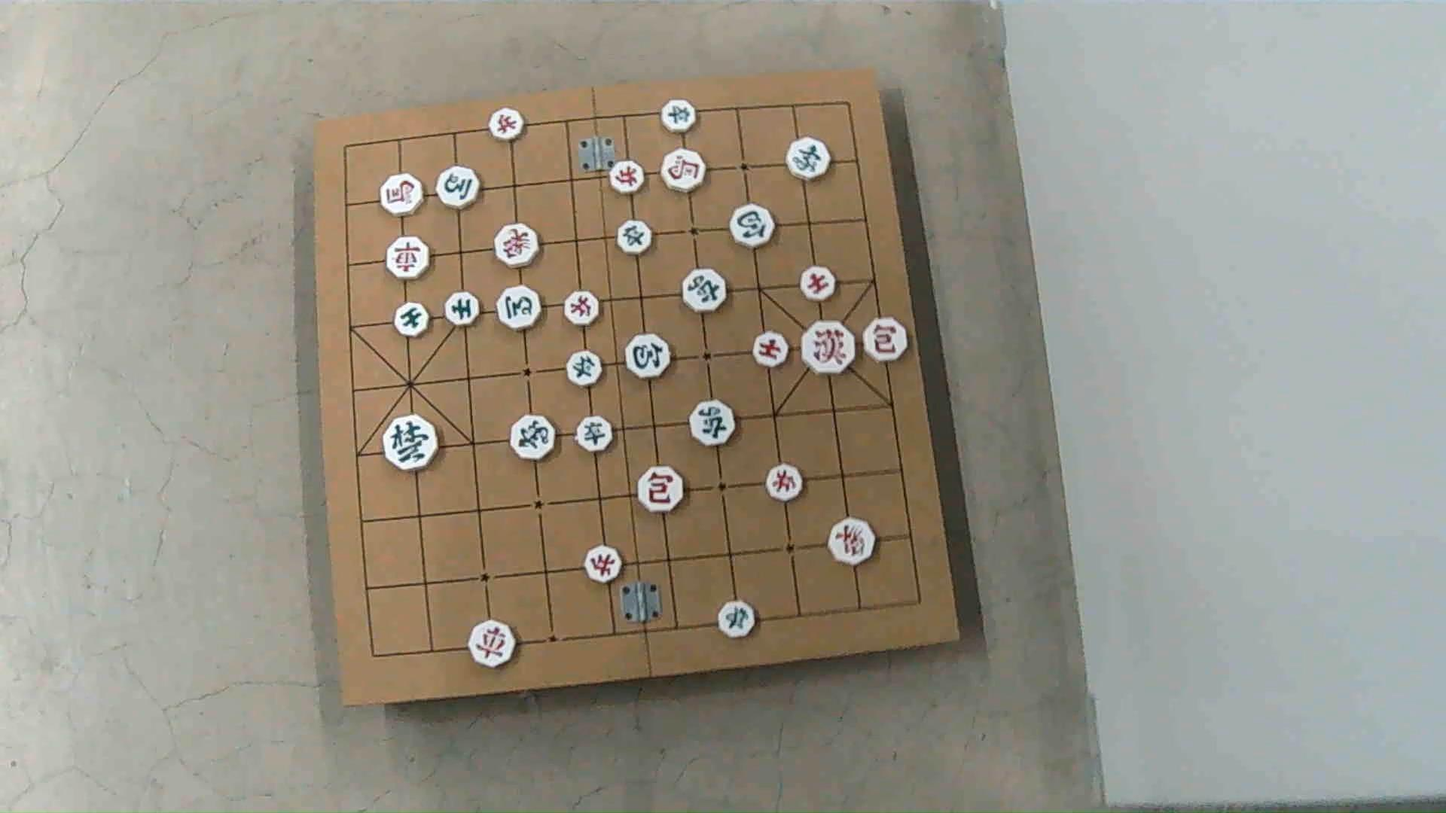cha_green: (691, 402, 737, 448), (683, 269, 728, 313)
cha_red: (469, 622, 515, 668), (389, 239, 431, 281)
jol_green: (716, 601, 755, 638), (577, 418, 613, 454), (618, 221, 654, 256), (567, 351, 602, 386), (660, 99, 694, 132)
jol_red: (766, 464, 804, 501), (584, 547, 621, 584), (563, 292, 598, 327), (609, 160, 645, 193), (488, 108, 523, 140)
ma_green: (435, 166, 480, 209), (496, 288, 539, 331)
ma_red: (665, 150, 708, 193), (382, 175, 424, 217)
po_green: (627, 335, 672, 379), (731, 205, 776, 248)
po_red: (637, 467, 683, 513), (862, 318, 908, 363)
sa_green: (393, 303, 428, 337), (448, 293, 481, 326)
sa_red: (799, 267, 834, 303), (753, 333, 789, 368)
sang_green: (512, 417, 557, 462), (785, 137, 828, 179)
sang_red: (828, 517, 875, 566), (495, 224, 538, 268)
wang_green: (383, 416, 437, 471)
wang_red: (801, 322, 856, 375)
